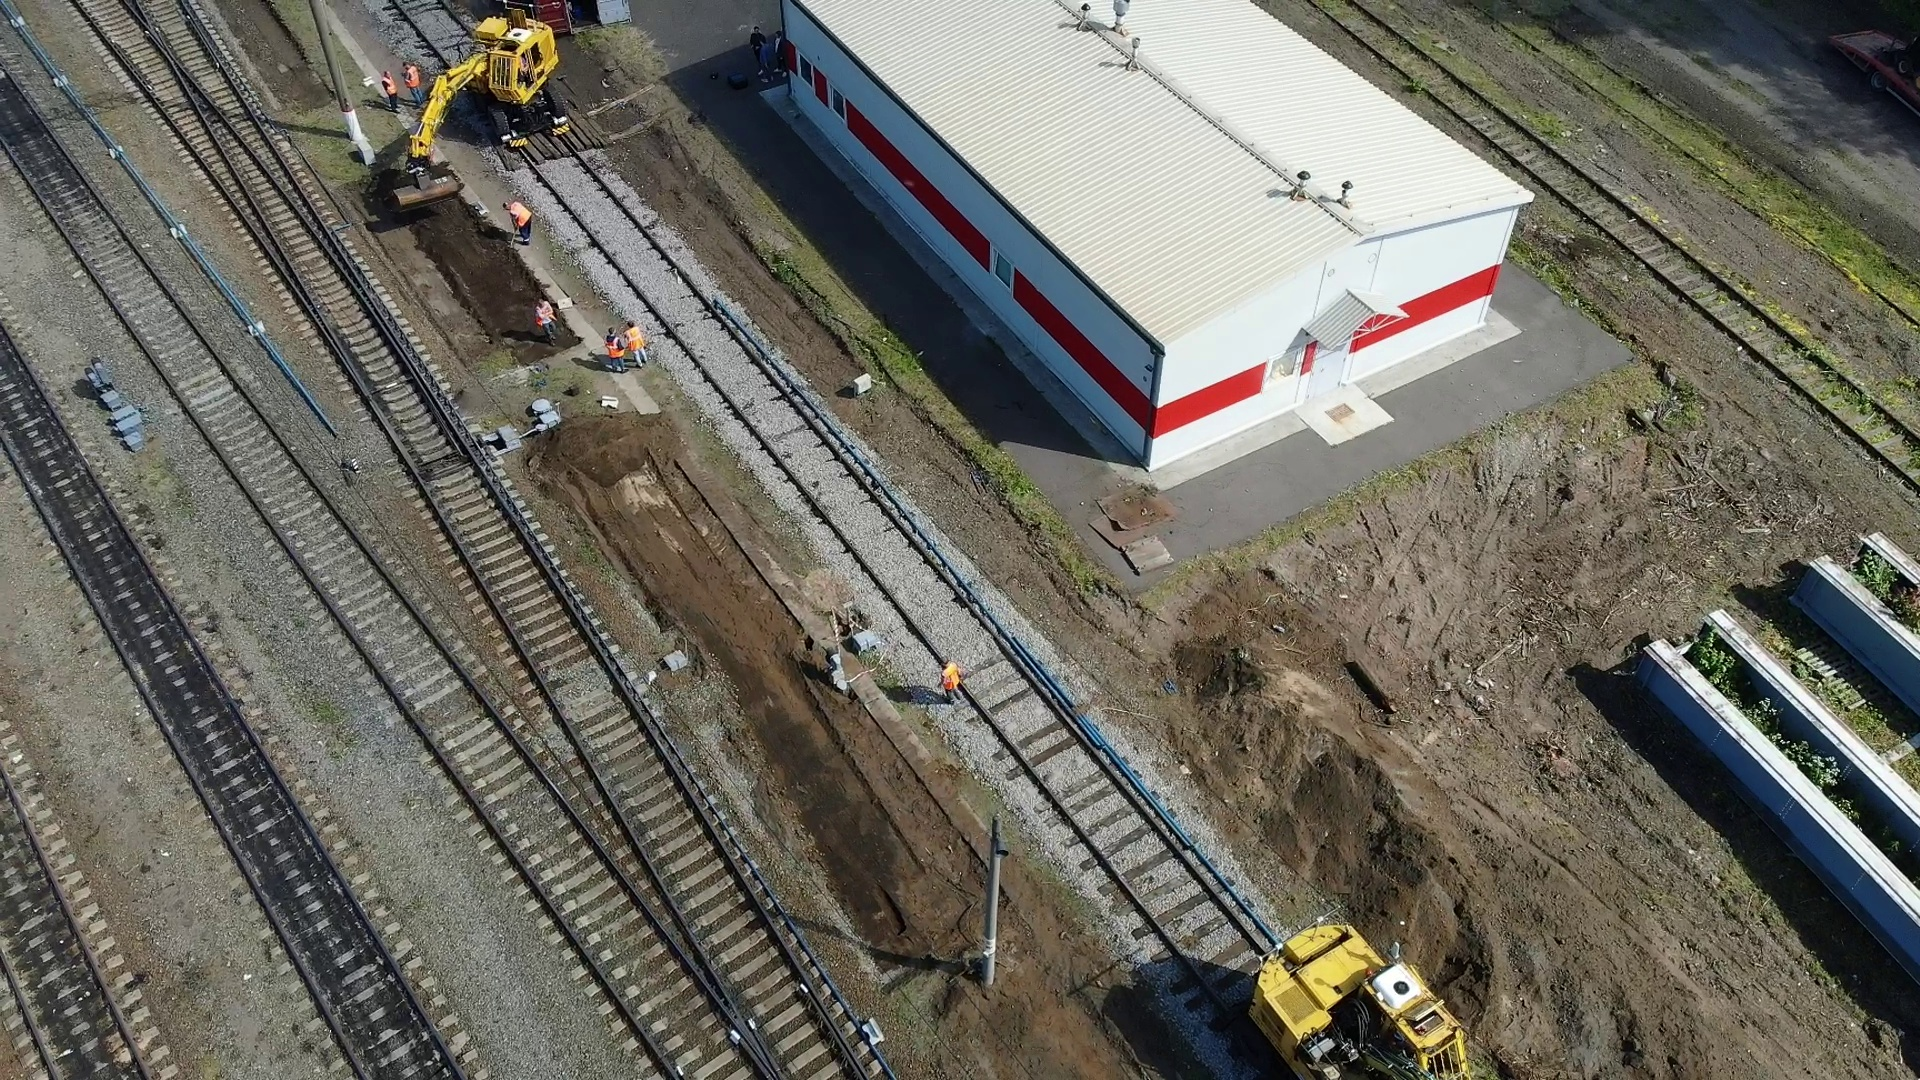kjtv: (1247, 914, 1477, 1080)
